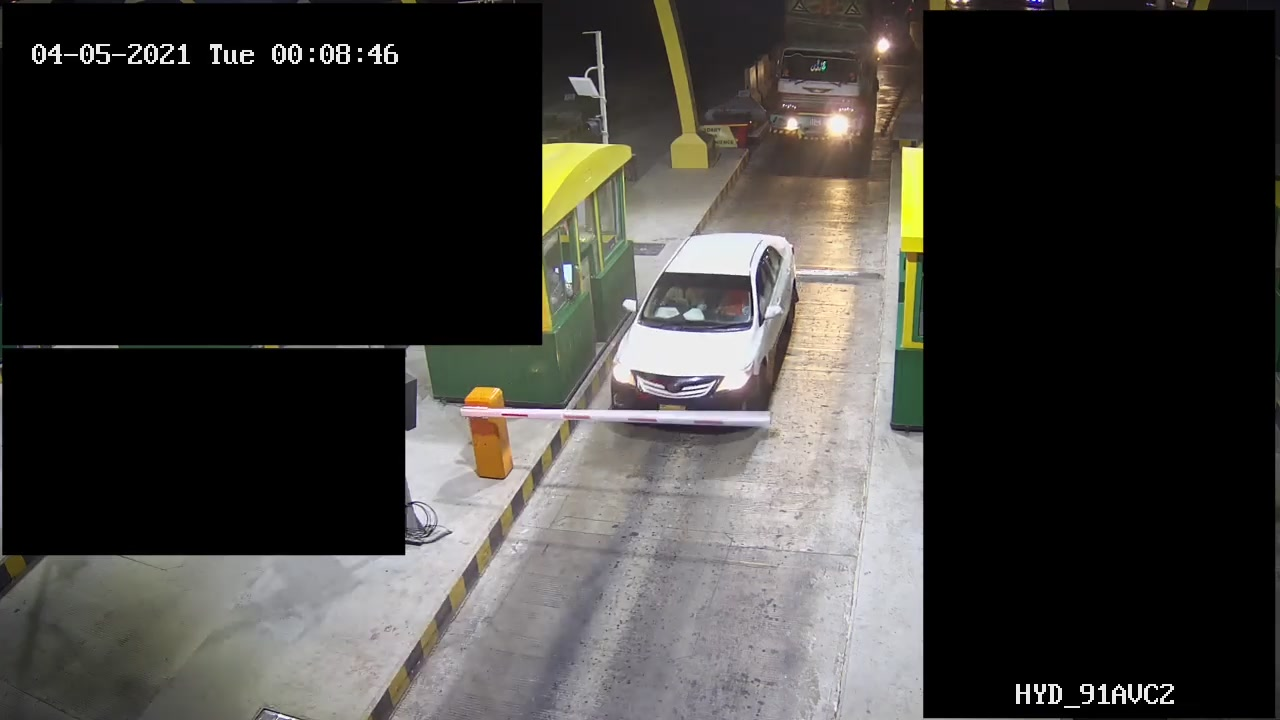F1: (608, 225, 810, 431)
